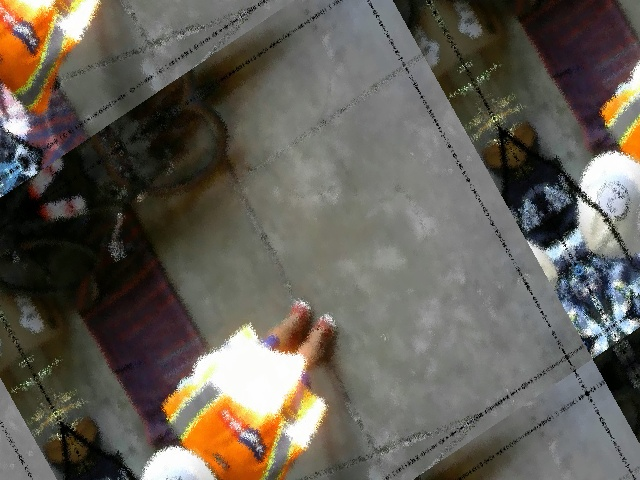two: (151, 470, 196, 479)
